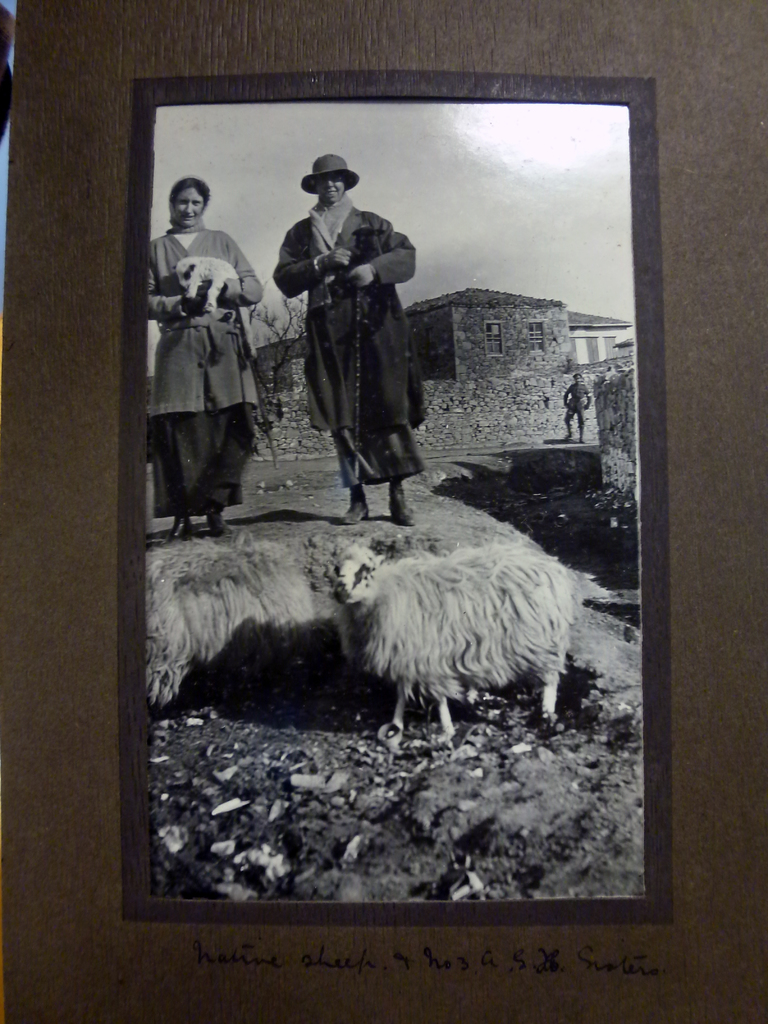sheep: (310, 497, 581, 735), (142, 530, 294, 688)
